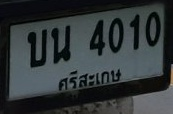txt20: (50, 25, 73, 66)
txt21: (26, 28, 48, 70)
